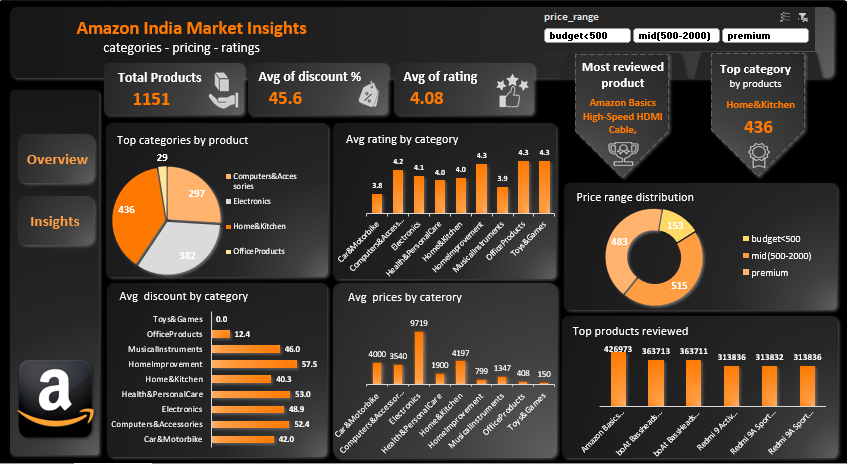

The page's visual inventory and layout, read from the dashboard file:
{"tool":"powerbi","page":{"name":"overview","canvas":[1280,720],"ordinal":0},"visuals":[{"type":"shape","box":[0,1.4,1280.2,717.1],"z":500},{"type":"shape","box":[0,0,1276.1,134.3],"z":1000},{"type":"shape","box":[0,123.8,129.6,596.2],"z":2000},{"type":"shape","box":[116.6,89.3,235,99.4],"z":3000},{"type":"shape","box":[339.8,89.3,235,99.4],"z":4000},{"type":"shape","box":[563,89.3,235,99.4],"z":5000},{"type":"shape","box":[787.7,89.3,234.7,99.4],"z":6000},{"type":"shape","box":[1008.6,90,234.3,100],"z":7000},{"type":"shape","box":[116.4,426.9,370.1,292.5],"z":8000},{"type":"shape","box":[880.6,440.3,400,279.1],"z":9000},{"type":"shape","box":[468.7,411.9,426.9,307.5],"z":10000},{"type":"shape","box":[464.3,178.6,430,248.6],"z":11000},{"type":"shape","box":[115.7,178.6,364.3,268.6],"z":12000},{"type":"shape","box":[879.1,179.1,401.5,276.1],"z":13000},{"type":"textbox","box":[51.8,11.5,541.4,66.2],"z":14000},{"type":"textbox","box":[80.6,57.6,259.2,44.6],"z":15000},{"type":"textbox","box":[593.3,102.2,259.2,44.6],"z":16000},{"type":"textbox","box":[149.8,102.2,259.2,44.6],"z":17000},{"type":"textbox","box":[373,100.8,259.2,44.6],"z":18000},{"type":"textbox","box":[823.7,105.1,259.2,67.7],"z":19000},{"type":"textbox","box":[1052.6,105.1,210.2,44.6],"z":20000},{"type":"cardVisual","fields":{"Data":["amazon_final.total products"]},"box":[134.3,111.4,151.4,78.6],"z":21000},{"type":"cardVisual","fields":{"Data":["amazon_final.avg discount %"]},"box":[354.3,110,151.4,78.6],"z":22000},{"type":"cardVisual","fields":{"Data":["amazon_final.avg rating"]},"box":[575.7,112.9,151.4,78.6],"z":23000},{"type":"cardVisual","fields":{"Data":["amazon_final.top reviewed product"]},"box":[810,114.3,270,75.7],"z":24000},{"type":"cardVisual","fields":{"Data":["amazon_final.top category"]},"box":[1025.3,110.9,203,79.2],"z":25000},{"type":"pieChart","fields":{"Category":["amazon_final.price range"],"Y":["CountNonNull(amazon_final.product_name)"]},"box":[108.6,207.1,367.1,240],"z":26000},{"type":"columnChart","fields":{"Category":["amazon_final.category"],"Y":["Avg(amazon_final.discount)"]},"box":[129.6,465.1,357.1,249.1],"z":27000},{"type":"textbox","box":[135.4,442.1,288,44.6],"z":28000},{"type":"textbox","box":[141.1,188.6,288,44.6],"z":29000},{"type":"barChart","fields":{"Category":["amazon_final.product_name"],"Y":["Sum(amazon_final.rating_count)"]},"box":[880.6,464.2,400,255.2],"z":30000},{"type":"textbox","box":[907.5,455.2,288.1,44.8],"z":31000},{"type":"scatterChart","fields":{"Y":["Avg(amazon_final.rating)"],"X":["Avg(amazon_final.discount)"],"Category":["amazon_final.category"]},"box":[480.6,465.7,398.5,240.3],"z":32000},{"type":"textbox","box":[494,432.8,288.1,44.8],"z":33000},{"type":"columnChart","fields":{"Category":["amazon_final.category"],"Y":["Avg(amazon_final.rating)"]},"box":[897.1,211.4,382.9,240],"z":34000},{"type":"textbox","box":[907.1,188.6,287.1,44.3],"z":35000},{"type":"pivotTable","fields":{"Rows":["amazon_final.category"],"Values":["Avg(amazon_final.actual_price)"]},"box":[480,211.4,394.3,208.6],"z":36000},{"type":"textbox","box":[487.1,188.6,287.1,44.3],"z":37000},{"type":"slicer","fields":{"Values":["amazon_final.price range2"]},"box":[0,207.1,130,220],"z":38000},{"type":"shape","box":[987.1,0,195.7,100],"z":39000},{"type":"shape","box":[795.7,1.4,195.7,100],"z":40000},{"type":"textbox","box":[21.4,167.1,108.6,44.3],"z":41000},{"type":"actionButton","box":[840,27.1,108.6,45.7],"z":42000},{"type":"actionButton","box":[1031.4,28.6,108.6,45.7],"z":43000},{"type":"image","box":[20,585.7,91.4,100],"z":44000}]}

Visuals, with their boxes in screenshot pixels (x1, y1, x2, y2), scaled from the page's 1280x720 canvas onto the 847x464 screenshot:
shape: (left=0, top=1, right=846, bottom=463)
shape: (left=0, top=0, right=844, bottom=87)
shape: (left=0, top=80, right=86, bottom=463)
shape: (left=77, top=58, right=233, bottom=122)
shape: (left=225, top=58, right=380, bottom=122)
shape: (left=373, top=58, right=528, bottom=122)
shape: (left=521, top=58, right=677, bottom=122)
shape: (left=667, top=58, right=822, bottom=122)
shape: (left=77, top=275, right=322, bottom=463)
shape: (left=583, top=284, right=846, bottom=463)
shape: (left=310, top=265, right=593, bottom=463)
shape: (left=307, top=115, right=592, bottom=275)
shape: (left=77, top=115, right=318, bottom=288)
shape: (left=582, top=115, right=846, bottom=293)
textbox: (left=34, top=7, right=393, bottom=50)
textbox: (left=53, top=37, right=225, bottom=66)
textbox: (left=393, top=66, right=564, bottom=95)
textbox: (left=99, top=66, right=271, bottom=95)
textbox: (left=247, top=65, right=418, bottom=94)
textbox: (left=545, top=68, right=717, bottom=111)
textbox: (left=697, top=68, right=836, bottom=96)
cardVisual - amazon_final.total products: (left=89, top=72, right=189, bottom=122)
cardVisual - amazon_final.avg discount %: (left=234, top=71, right=335, bottom=122)
cardVisual - amazon_final.avg rating: (left=381, top=73, right=481, bottom=123)
cardVisual - amazon_final.top reviewed product: (left=536, top=74, right=715, bottom=122)
cardVisual - amazon_final.top category: (left=678, top=71, right=813, bottom=123)
pieChart - amazon_final.price range x CountNonNull(amazon_final.product_name): (left=72, top=133, right=315, bottom=288)
columnChart - amazon_final.category x Avg(amazon_final.discount): (left=86, top=300, right=322, bottom=460)
textbox: (left=90, top=285, right=280, bottom=314)
textbox: (left=93, top=122, right=284, bottom=150)
barChart - amazon_final.product_name x Sum(amazon_final.rating_count): (left=583, top=299, right=846, bottom=463)
textbox: (left=601, top=293, right=791, bottom=322)
scatterChart - Avg(amazon_final.rating) x Avg(amazon_final.discount): (left=318, top=300, right=582, bottom=455)
textbox: (left=327, top=279, right=518, bottom=308)
columnChart - amazon_final.category x Avg(amazon_final.rating): (left=594, top=136, right=846, bottom=291)
textbox: (left=600, top=122, right=790, bottom=150)
pivotTable - amazon_final.category x Avg(amazon_final.actual_price): (left=318, top=136, right=579, bottom=271)
textbox: (left=322, top=122, right=512, bottom=150)
slicer - amazon_final.price range2: (left=0, top=133, right=86, bottom=275)
shape: (left=653, top=0, right=783, bottom=64)
shape: (left=527, top=1, right=656, bottom=65)
textbox: (left=14, top=108, right=86, bottom=136)
actionButton: (left=556, top=17, right=628, bottom=47)
actionButton: (left=682, top=18, right=754, bottom=48)
image: (left=13, top=377, right=74, bottom=442)
